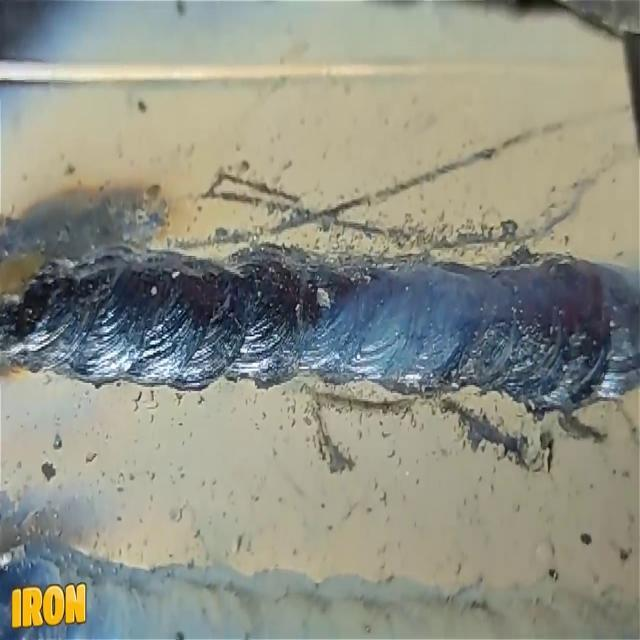Good Welding: (64, 263, 461, 386)
